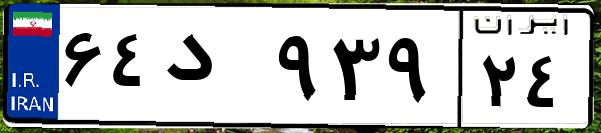2: (475, 38, 525, 113)
3: (330, 28, 385, 110)
4: (525, 38, 570, 115), (110, 28, 158, 98)
6: (57, 26, 110, 100)
9: (270, 28, 330, 110), (385, 28, 445, 110)
د: (158, 20, 270, 120)
